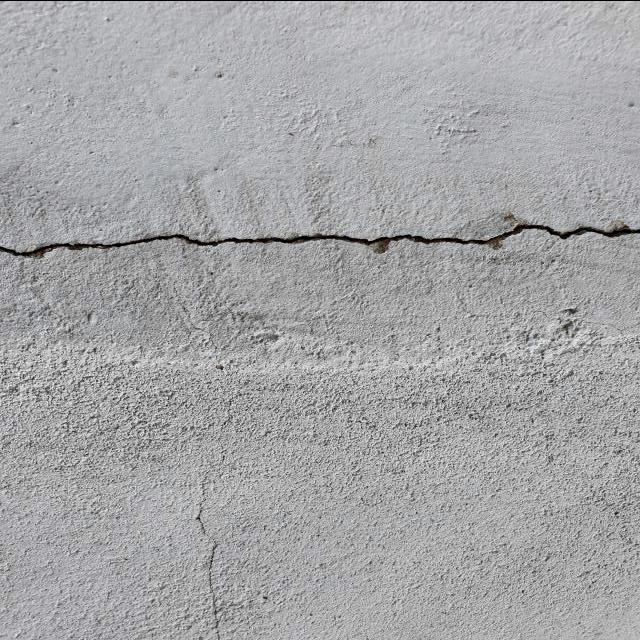SurfaceCrack: (0, 169, 639, 302)
